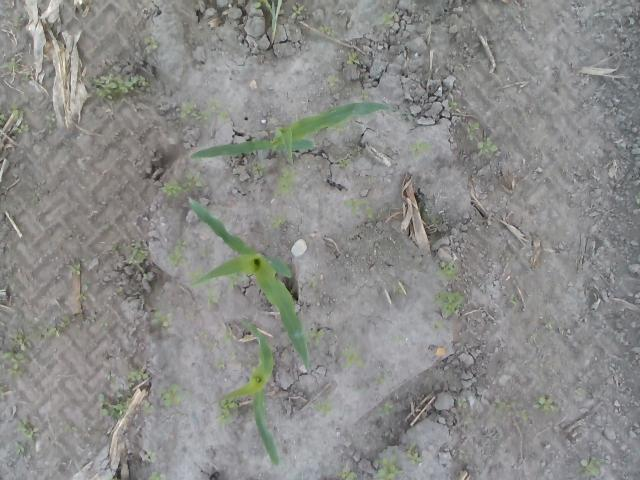Maize: (186, 193, 312, 375), (188, 100, 393, 161), (226, 318, 282, 464)
Weeds: (96, 366, 155, 422), (88, 60, 152, 105), (178, 96, 230, 126), (160, 169, 207, 199), (156, 382, 192, 410), (492, 398, 530, 424), (40, 315, 80, 339), (432, 288, 465, 317), (0, 348, 33, 376), (0, 105, 30, 135), (272, 165, 300, 197), (334, 343, 366, 370), (266, 0, 284, 47), (150, 302, 175, 334), (215, 397, 239, 430), (576, 454, 608, 478), (344, 198, 376, 222), (531, 393, 561, 416), (375, 457, 402, 480), (167, 238, 189, 266), (418, 198, 439, 226), (408, 136, 432, 160), (127, 237, 147, 265), (193, 329, 218, 350), (436, 260, 460, 281), (9, 328, 31, 350), (14, 416, 34, 440), (140, 31, 160, 52), (404, 442, 423, 464), (317, 22, 339, 41), (42, 110, 58, 136), (312, 400, 337, 416), (477, 136, 498, 155), (250, 158, 268, 176), (334, 467, 358, 480), (382, 8, 399, 26), (306, 328, 325, 344), (465, 119, 480, 139), (271, 214, 289, 230), (374, 368, 391, 384), (456, 447, 471, 465), (346, 50, 361, 68), (207, 286, 220, 306), (0, 57, 18, 71), (222, 326, 235, 344), (142, 449, 156, 464), (543, 319, 554, 337), (289, 3, 304, 16), (308, 274, 320, 290), (188, 267, 202, 280), (446, 98, 459, 112), (63, 264, 81, 274), (14, 440, 26, 455), (144, 470, 162, 480), (61, 424, 80, 433), (95, 222, 112, 232), (228, 275, 240, 289), (432, 320, 444, 334), (213, 358, 226, 370), (327, 74, 337, 89), (96, 319, 112, 328), (140, 269, 152, 280), (111, 243, 123, 254), (358, 87, 368, 100), (457, 398, 468, 409), (382, 402, 394, 412), (90, 308, 98, 322), (198, 246, 208, 257), (254, 0, 265, 10), (510, 294, 519, 306), (340, 159, 352, 168), (367, 174, 377, 184), (76, 294, 88, 302), (382, 205, 390, 215), (393, 286, 402, 294), (15, 16, 27, 22), (230, 352, 238, 360), (21, 74, 28, 81), (112, 476, 118, 480)
